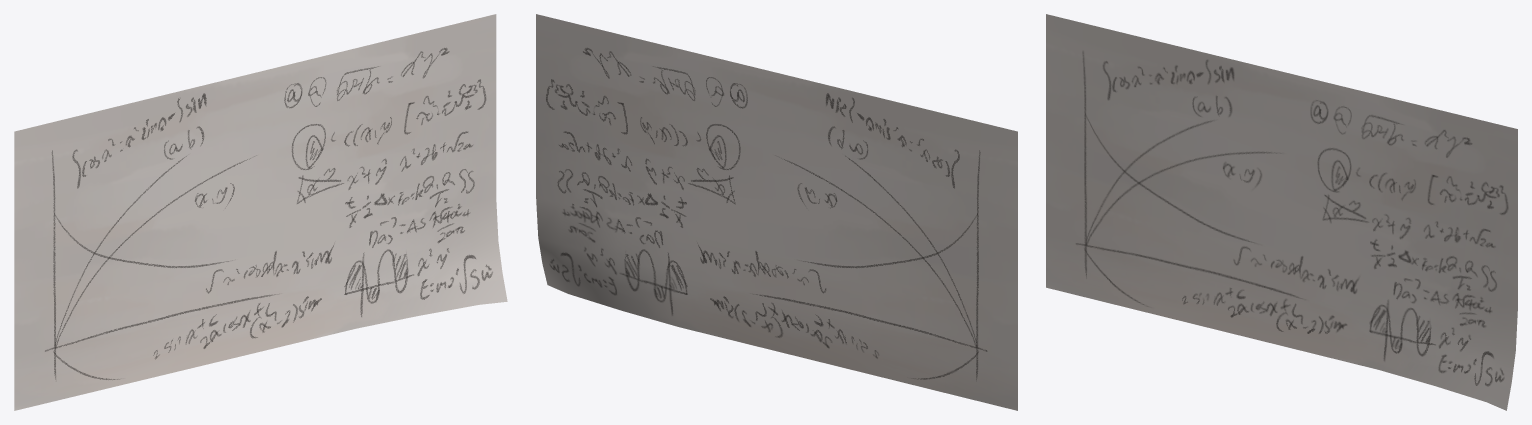
File: Paper.FBX
The picture shows the model from 3 angles, left to right: view 1: azimuth 30°, elevation 25°; view 2: azimuth 150°, elevation 25°; view 3: azimuth 330°, elevation 25°; orthographic projection. The views are drawn at different scales.
Visible parts, largest first — view 1: Paper; view 2: Paper; view 3: Paper.
Boxes of the visible parts, x1,y1,x2,y2 form: Paper: (14,14,507,410); Paper: (536,14,1017,410); Paper: (1046,14,1517,410).
Size of the model in its own units: 170 by 94.25 by 6.99.
